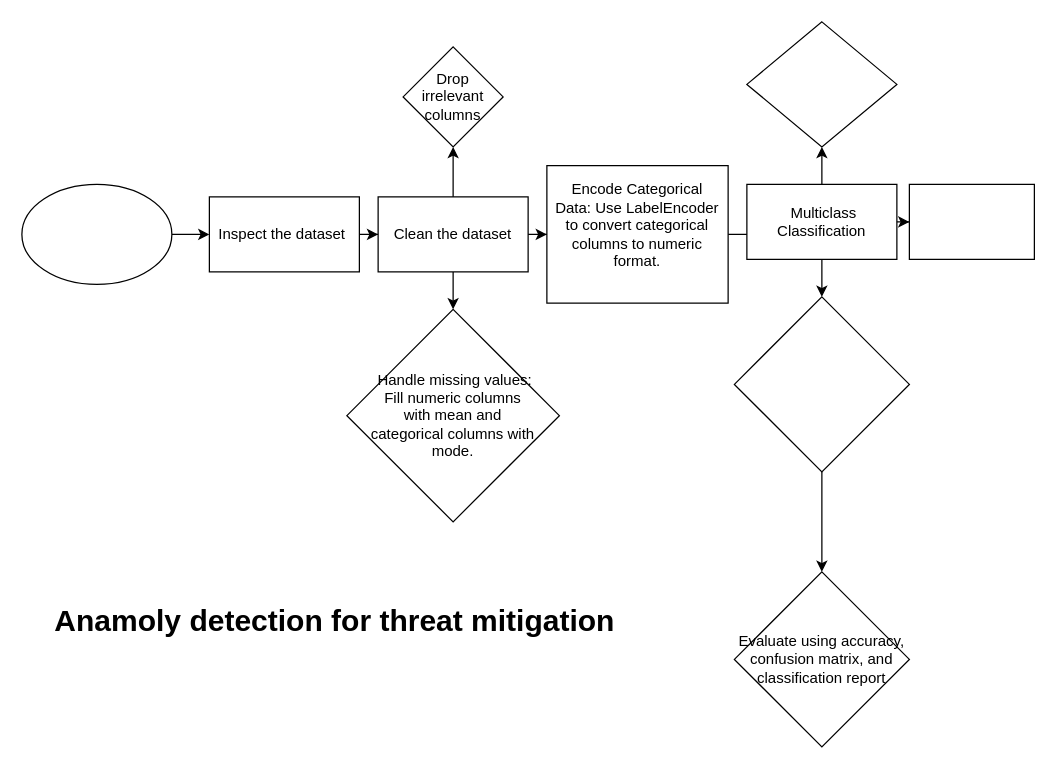
The diagram is 1056 pixels wide and 769 high, and some of its shapes have lost their labels. Each missing label, with the centre of its shape:
"Anomaly Detection:" goes at (971,221).
"Load the dataset" goes at (96,233).
"Normalize numeric features using StandardScaler." goes at (821,384).
"Split data into features (X) and target (y)." goes at (821,84).
